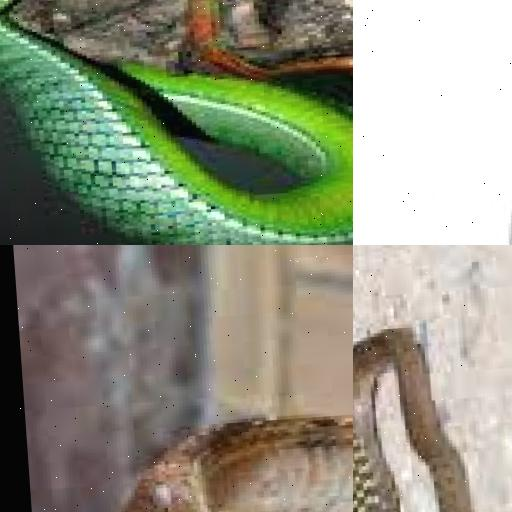snake: (0, 0, 353, 245)
